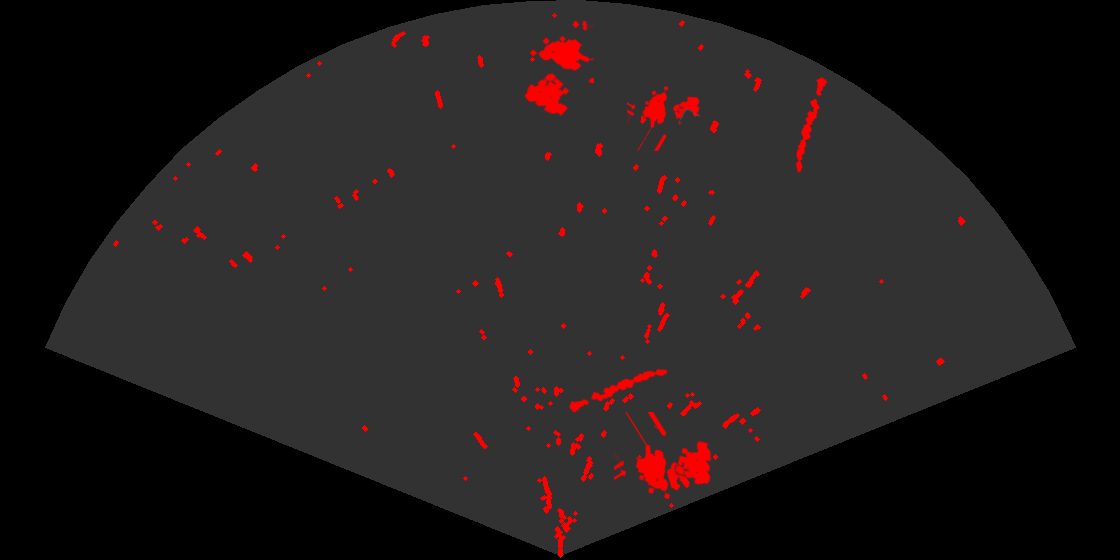ball: (665, 459, 702, 492)
cage: (614, 412, 713, 501), (523, 21, 594, 118), (627, 84, 702, 151)
chain: (567, 367, 669, 414), (794, 75, 829, 174)
